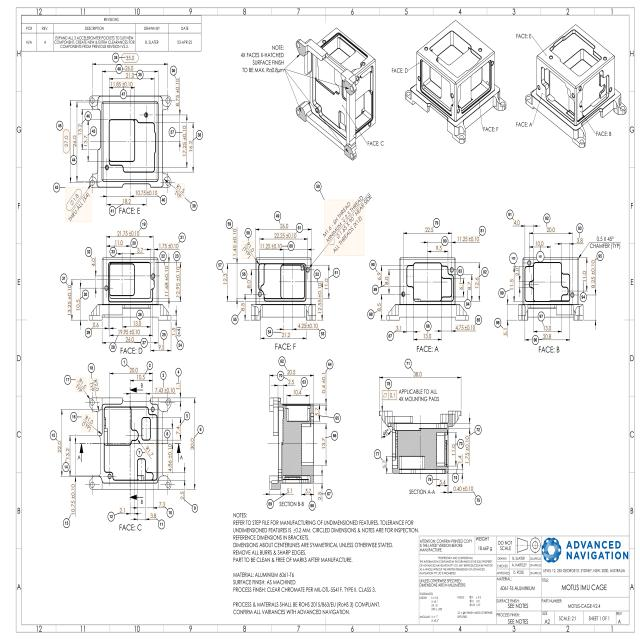dimension: (321, 192, 373, 255), (67, 192, 91, 222), (588, 235, 622, 250), (67, 192, 83, 210), (242, 240, 255, 258), (175, 265, 181, 298), (82, 414, 93, 432), (382, 389, 397, 402), (181, 125, 187, 157), (231, 227, 237, 259), (166, 442, 172, 474), (464, 434, 470, 466), (110, 80, 133, 88), (457, 235, 480, 243), (175, 182, 185, 200), (118, 328, 140, 336), (154, 386, 176, 394), (71, 483, 76, 516), (135, 190, 158, 197), (117, 230, 140, 237), (274, 232, 297, 239), (164, 265, 169, 297), (67, 283, 72, 315), (315, 282, 320, 313), (591, 259, 596, 290), (260, 243, 282, 250), (298, 322, 320, 329), (452, 485, 474, 492), (158, 243, 179, 250), (455, 324, 476, 331), (175, 78, 180, 107), (77, 377, 86, 392), (321, 372, 327, 394), (144, 446, 153, 458), (176, 327, 182, 342), (381, 428, 390, 438), (124, 54, 135, 62), (473, 276, 479, 290), (92, 378, 98, 392), (321, 436, 327, 450), (124, 64, 134, 72), (278, 222, 288, 230), (281, 331, 291, 339), (542, 332, 552, 340), (129, 366, 139, 374), (293, 388, 303, 396), (77, 123, 83, 136), (509, 278, 515, 291), (578, 270, 584, 283), (65, 446, 71, 459), (450, 443, 456, 456), (190, 436, 195, 451), (57, 439, 62, 454), (76, 299, 82, 311), (376, 302, 382, 314), (535, 240, 544, 248), (413, 370, 422, 378), (188, 138, 193, 152), (122, 198, 132, 205), (64, 134, 69, 148), (133, 320, 143, 327), (324, 276, 329, 290), (424, 226, 434, 233), (542, 325, 552, 332), (286, 369, 296, 376), (454, 279, 460, 290), (465, 281, 471, 292), (514, 266, 520, 277), (503, 327, 509, 338), (175, 379, 181, 390), (317, 491, 323, 502), (72, 135, 77, 148), (223, 272, 228, 285), (179, 488, 184, 501), (126, 336, 134, 344), (149, 512, 157, 520), (288, 378, 296, 386), (304, 487, 312, 495), (286, 487, 294, 495), (115, 240, 124, 247), (423, 333, 432, 340), (546, 226, 555, 233), (137, 374, 146, 381), (124, 72, 134, 78), (83, 135, 88, 147), (240, 302, 246, 312), (314, 408, 320, 418), (137, 247, 144, 255), (158, 344, 166, 351), (395, 325, 403, 332), (514, 219, 522, 226), (575, 237, 583, 244), (158, 501, 166, 508), (119, 507, 127, 514), (439, 479, 447, 486), (91, 257, 96, 268), (247, 279, 252, 290), (377, 271, 382, 282), (457, 453, 462, 464), (384, 275, 389, 285), (176, 425, 181, 435), (383, 460, 388, 470), (436, 244, 442, 252), (92, 322, 99, 328), (172, 326, 176, 336)
